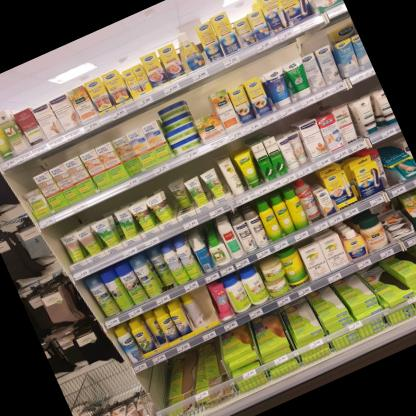empty_space: (154, 163, 198, 220)
